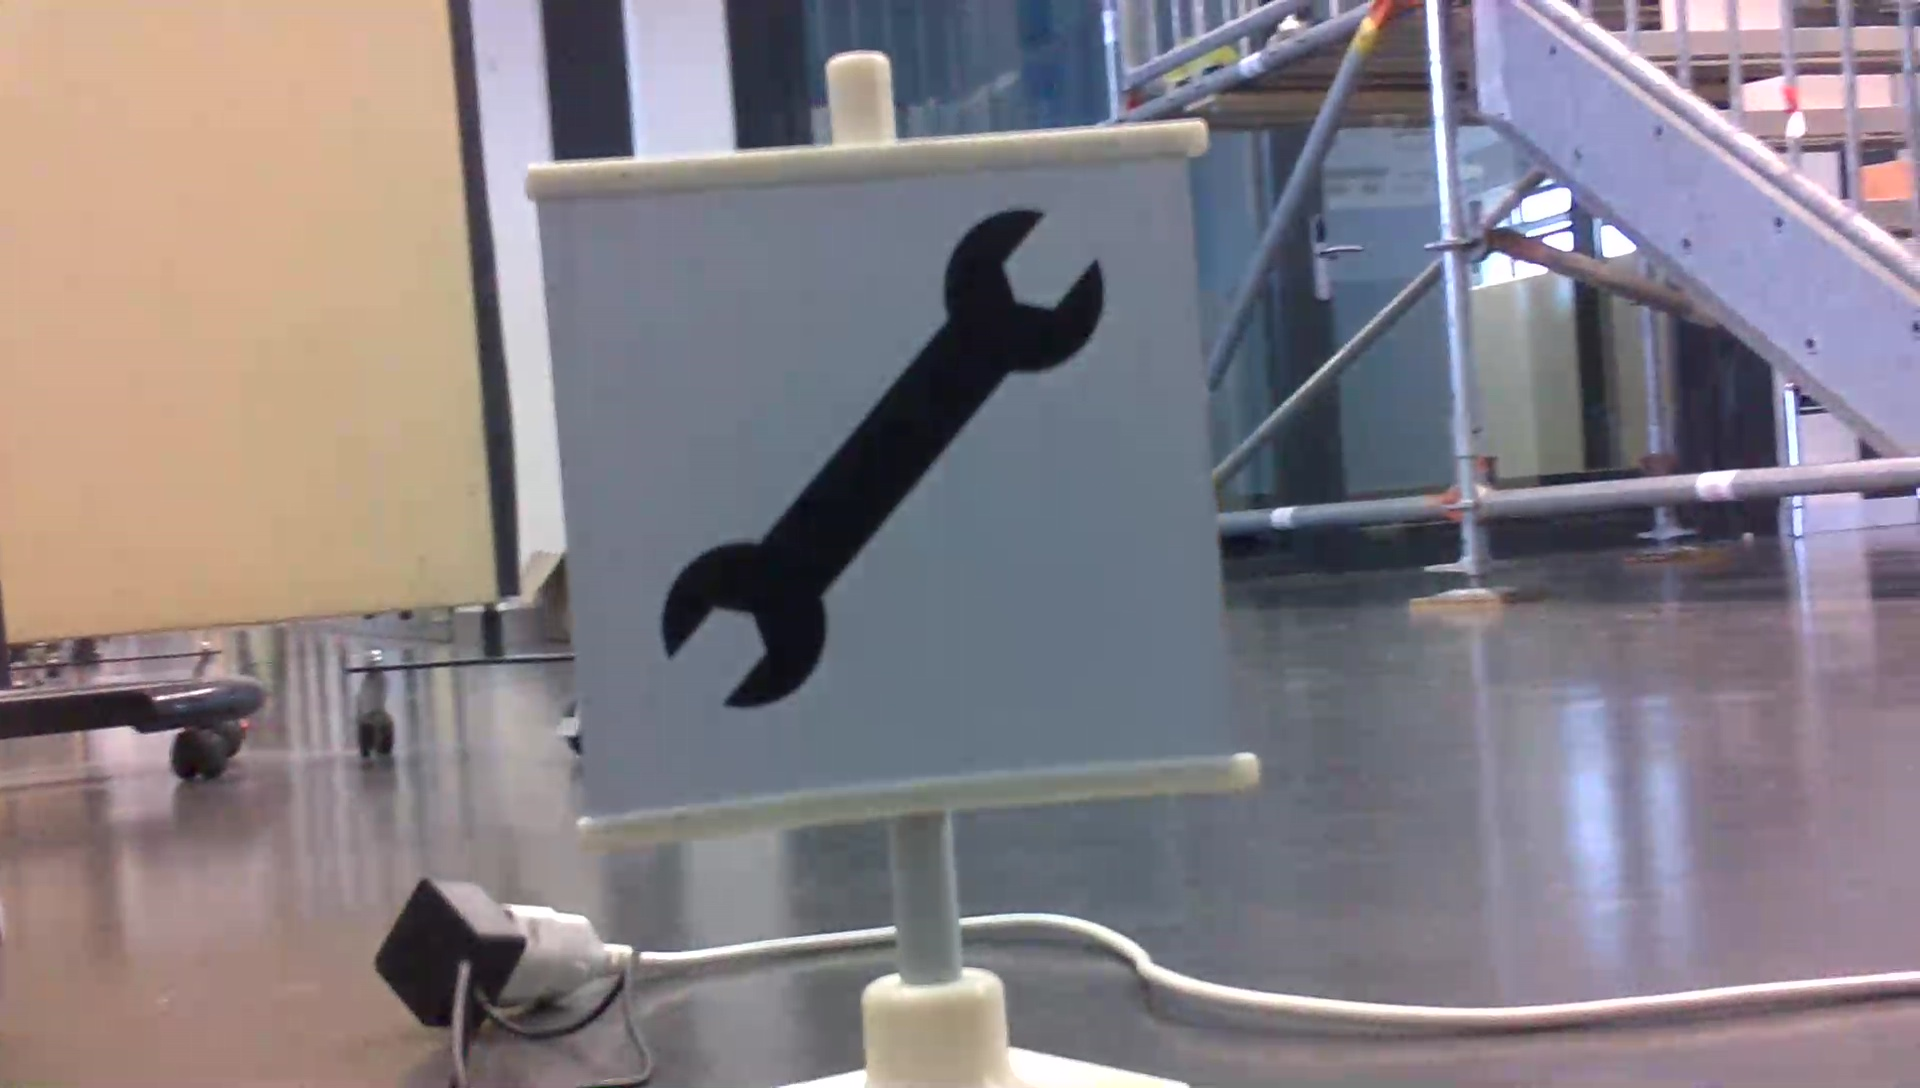wrench: (651, 195, 1116, 720)
